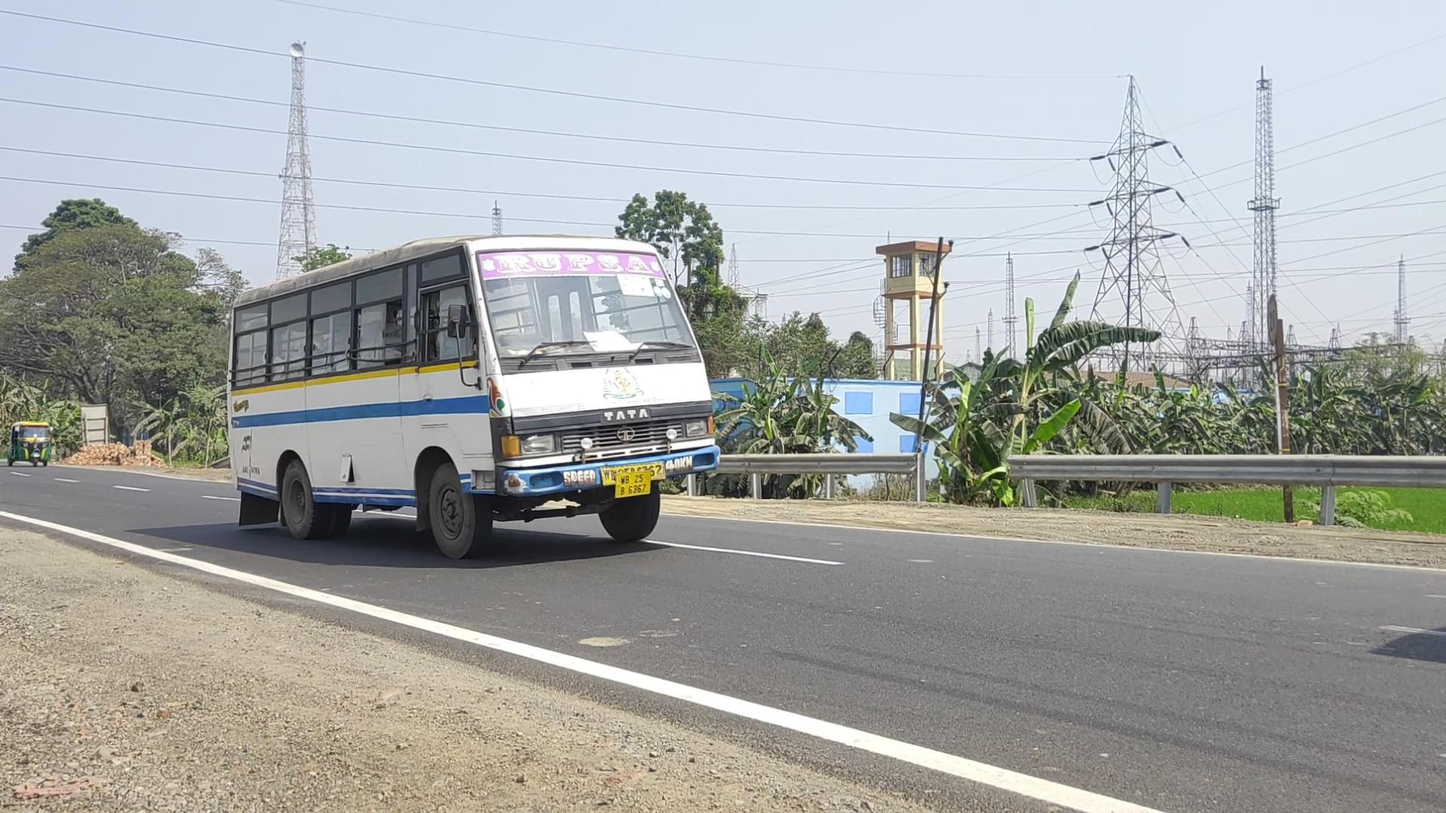Auto: (8, 422, 52, 468)
Bus: (225, 233, 720, 560)
